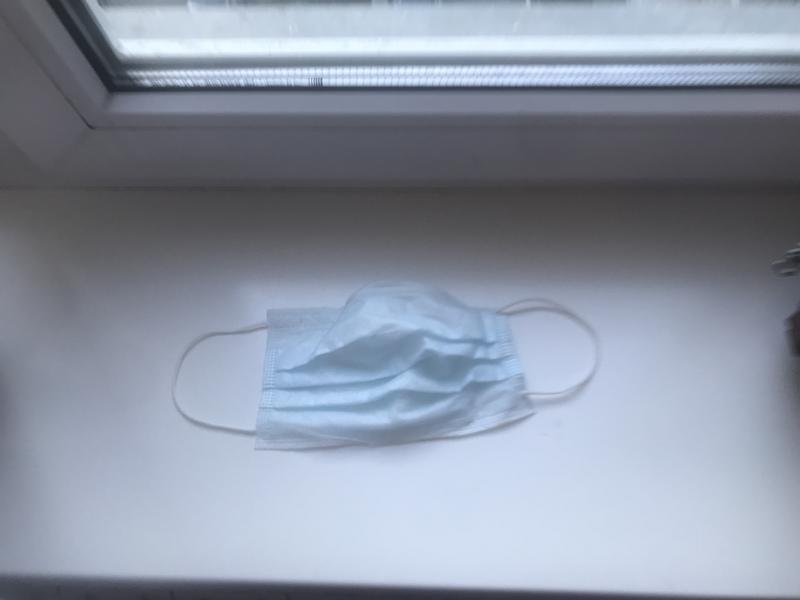medical_mask: (172, 283, 601, 436)
